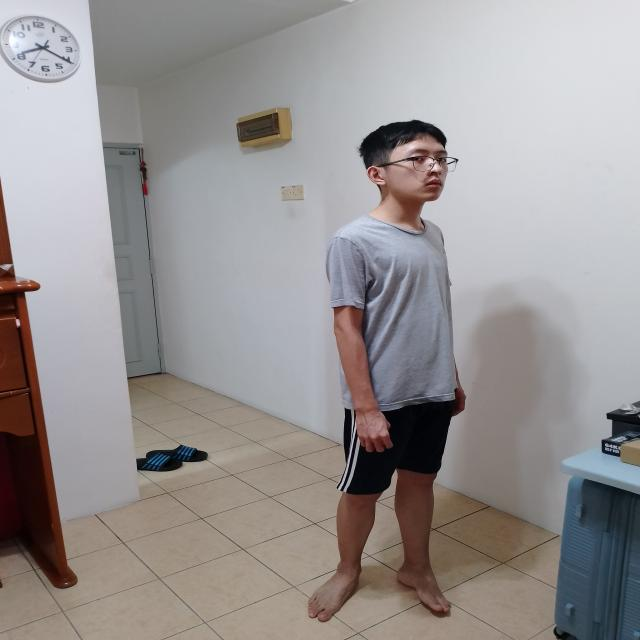person_without_labcoat: (308, 121, 465, 621)
